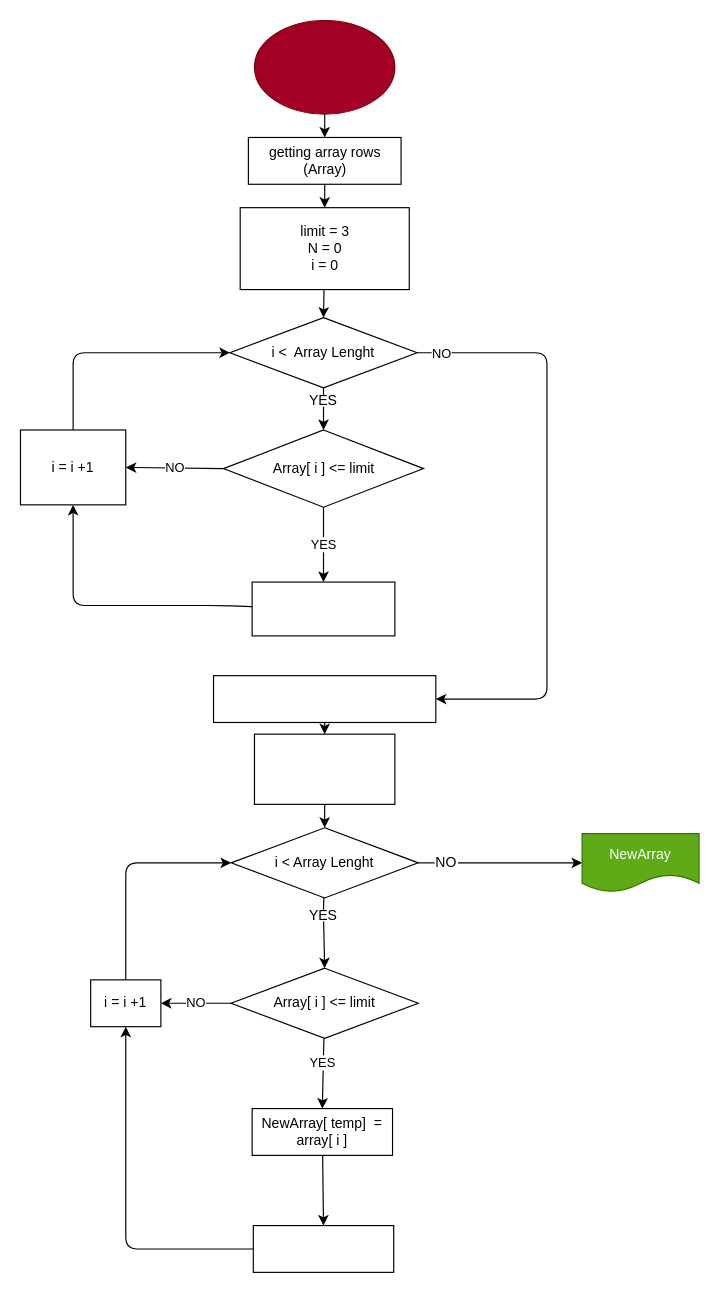
Some shapes in this 720 by 1293 pixel diagram are drawn without their labels. The shapes that lost their labels are listed below. From the top down, each one's box as (x1, y1, x2, y2) in pixels, then its label:
(253, 19, 395, 114): START
(251, 581, 395, 636): N = N +1
(212, 675, 436, 722): Init (NewArray), size = N
(253, 733, 395, 804): counters: temp = 0 i = 0
(252, 1224, 394, 1272): temp = temp +1
